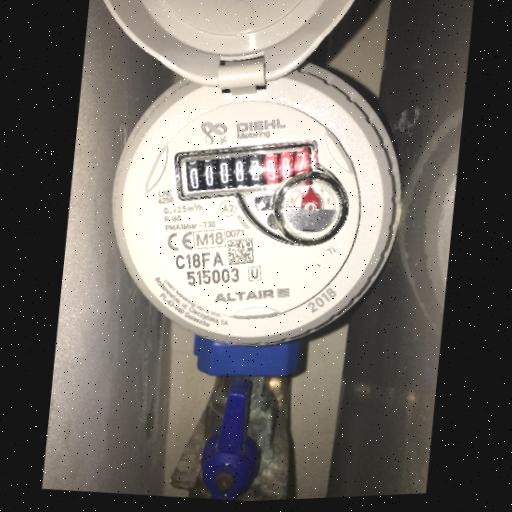0: (183, 158, 206, 192), (199, 157, 222, 191), (215, 156, 238, 190)
2: (246, 153, 269, 187)
7: (292, 149, 315, 178)
8: (230, 155, 253, 189), (277, 150, 299, 184)
9: (261, 151, 285, 187)
border_water_meter_number: (169, 125, 325, 217)
